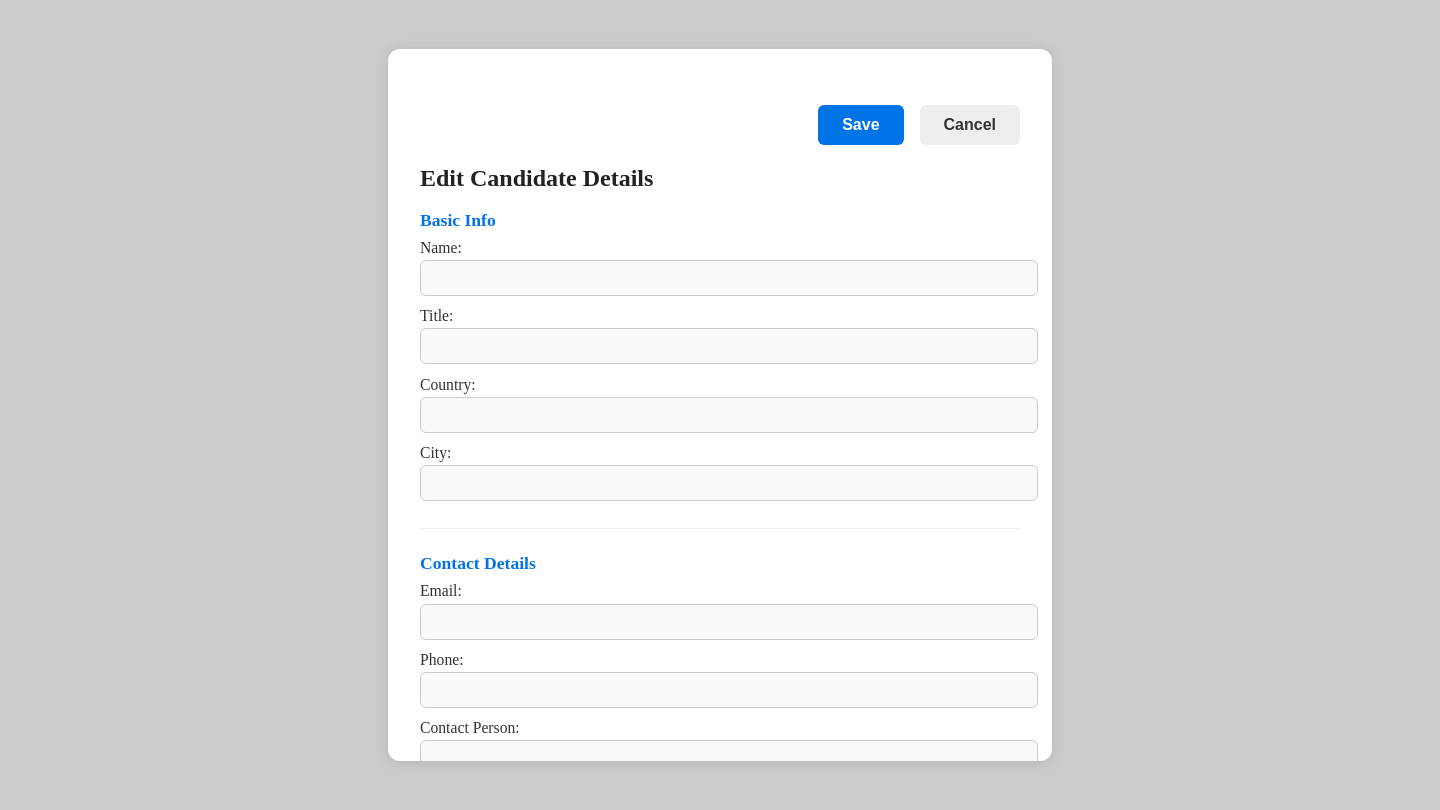
Test: EditCandidateForm › shows error for invalid email
This screenshot has width=1440, height=810.
Type "invalid" into the field named "email" at (729, 622), box x1=420 y1=604 x2=1038 y2=640
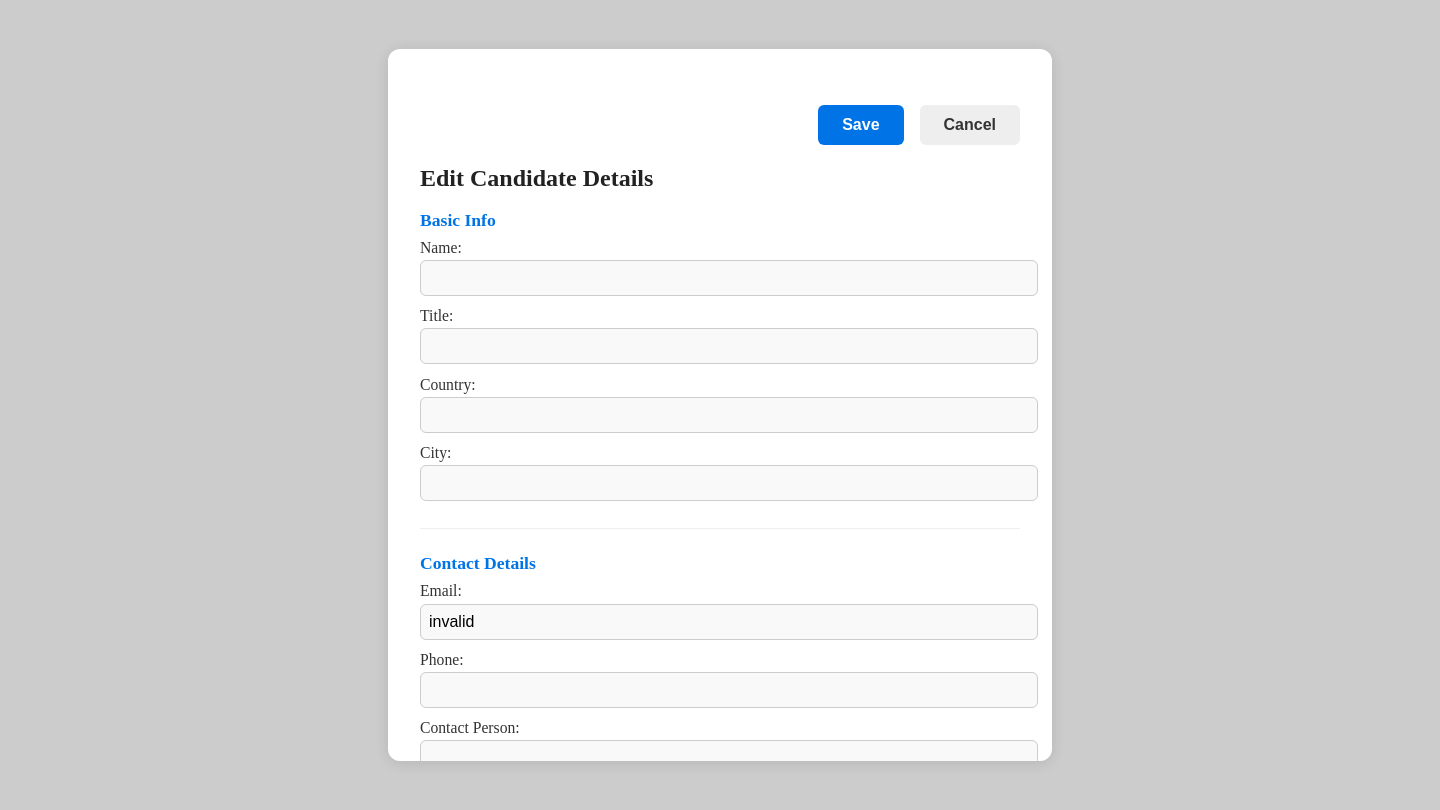
Submit the form, box x1=388 y1=49 x2=1052 y2=761
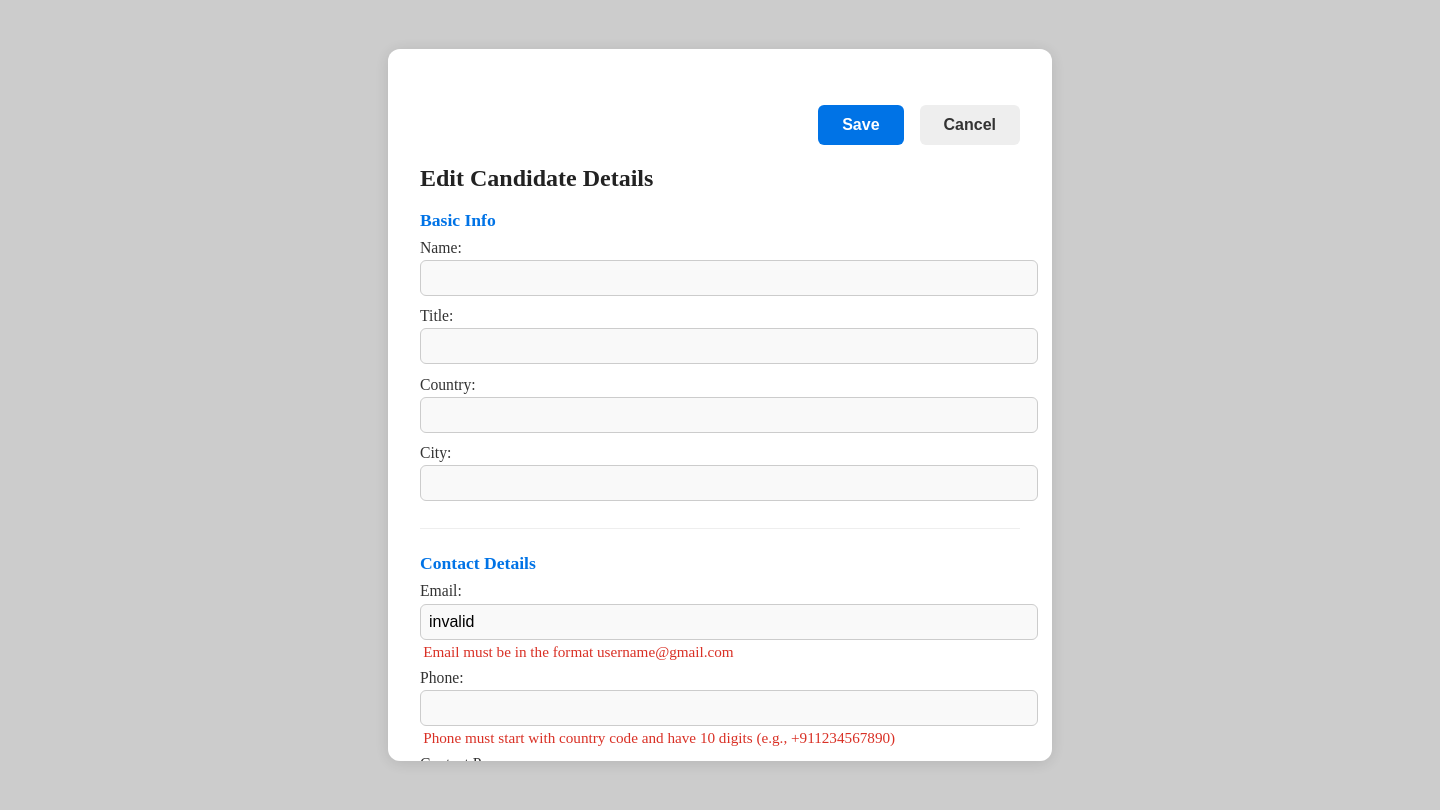
Expected: the text "Email must be in the format username@gmail.com" is shown, x1=423 y1=643 x2=734 y2=660
